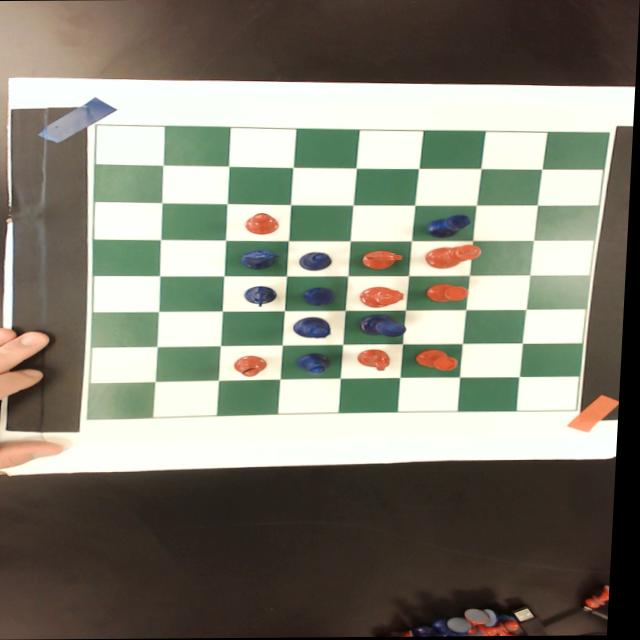B: (299, 351, 337, 375), (299, 250, 338, 270)
K: (360, 314, 411, 336)
N: (244, 247, 285, 271), (246, 286, 283, 308)
Q: (296, 316, 337, 339)
R: (425, 214, 476, 238), (306, 285, 341, 308)
b: (246, 212, 284, 235), (238, 354, 273, 378)
k: (427, 244, 485, 268)
n: (363, 250, 408, 270), (359, 349, 397, 371)
q: (361, 285, 409, 307)
r: (416, 348, 463, 372), (426, 283, 472, 303)
